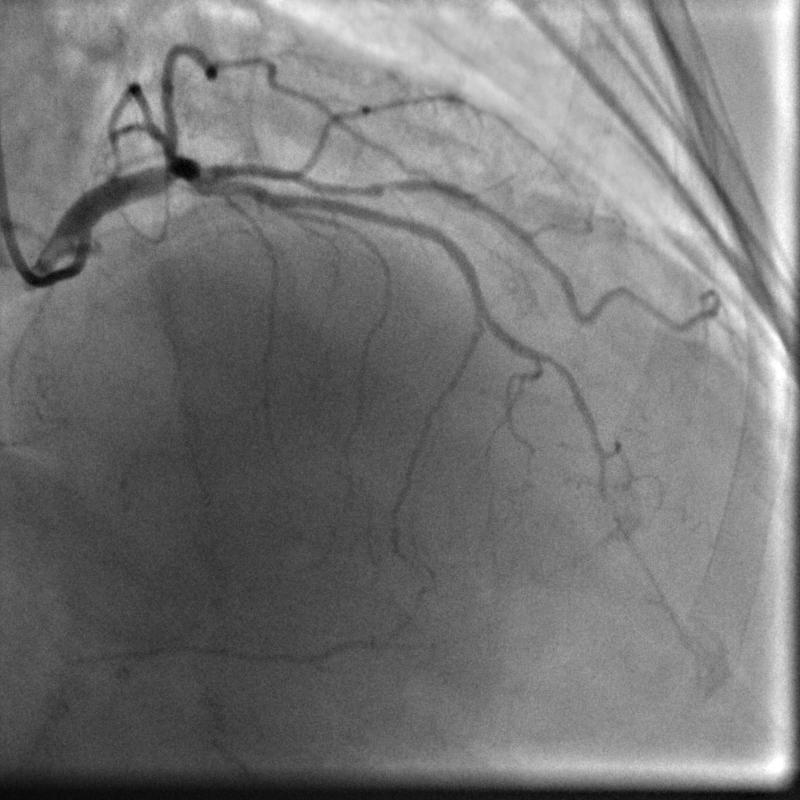Stenosis: (328, 172, 418, 202)
